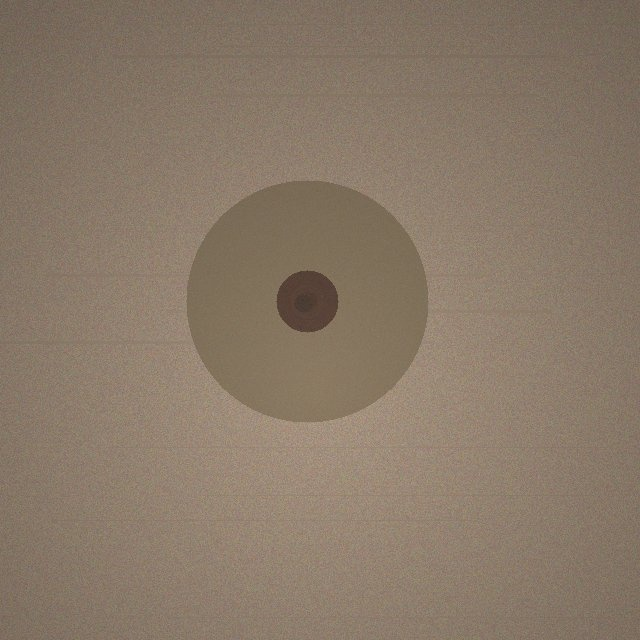cold_weld: (186, 180, 428, 422)
